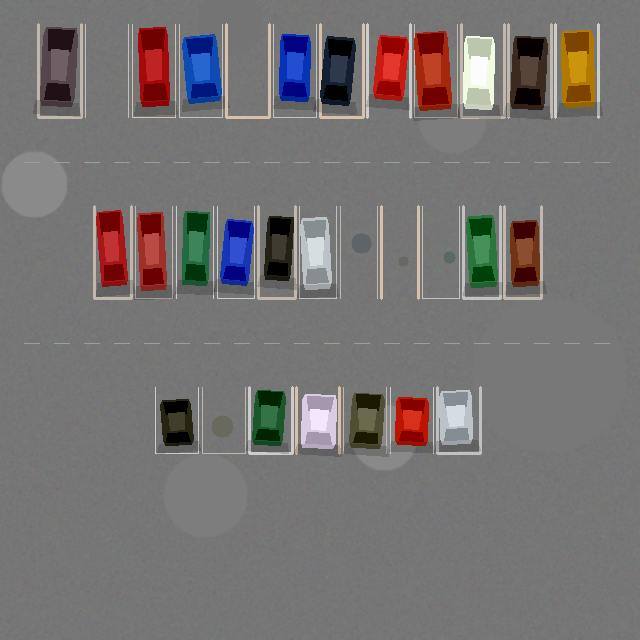space-empty: (85, 24, 128, 117), (226, 24, 269, 117), (340, 206, 377, 298), (381, 206, 418, 298), (422, 206, 459, 298), (202, 387, 245, 453)
space-occupied: (38, 24, 81, 117), (132, 24, 175, 117), (179, 24, 222, 117), (273, 24, 316, 117), (320, 24, 363, 117), (367, 24, 410, 117), (414, 24, 457, 117), (461, 24, 504, 117), (508, 24, 551, 117), (555, 24, 598, 117), (94, 206, 131, 298), (135, 206, 172, 298), (176, 206, 213, 298), (217, 206, 254, 298), (258, 206, 295, 298), (299, 206, 336, 298), (463, 206, 500, 298), (504, 206, 541, 298), (155, 387, 198, 453), (249, 387, 292, 453), (296, 387, 339, 453), (343, 387, 386, 453), (390, 387, 433, 453), (437, 387, 480, 453)
